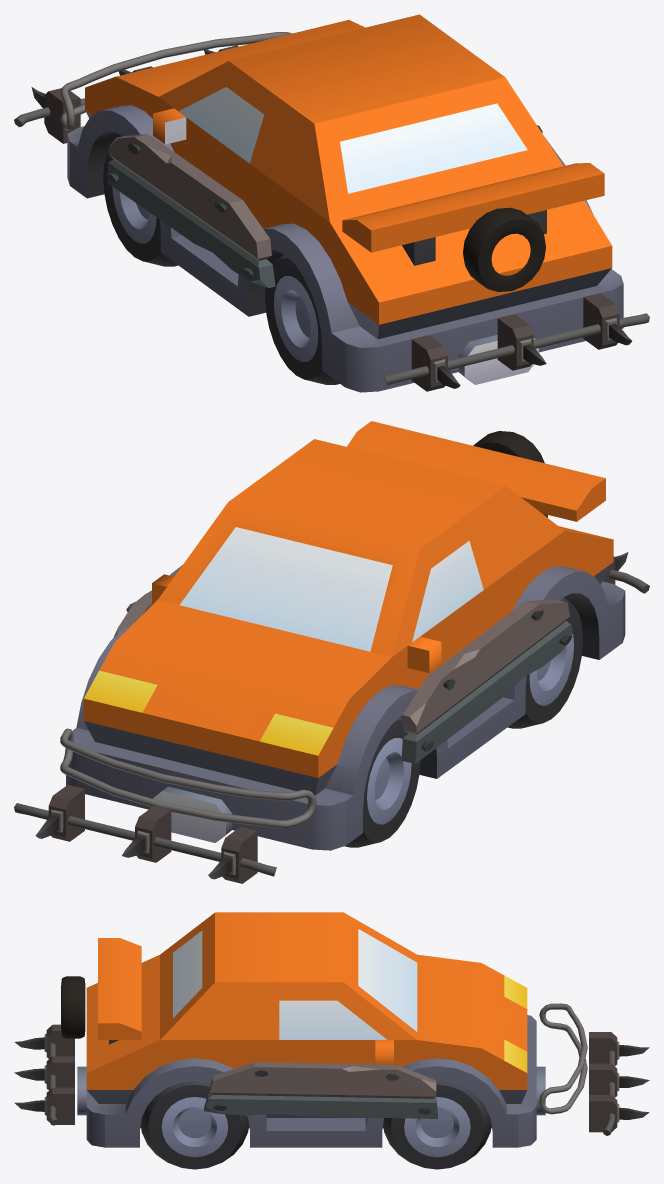
File: car_vela.glb
The picture shows the model from 3 angles, top to bottom: view 1: azimuth 30°, elevation 25°; view 2: azimuth 150°, elevation 25°; view 3: azimuth 270°, elevation 25°; orthographic projection. The views are drawn at different scales.
Visible parts, largest first — view 1: body_mesh, armor_1_mesh, armor_2_mesh, armor_3_mesh, wheel_RL_mesh, wheel_FL_mesh; view 2: body_mesh, armor_1_mesh, armor_3_mesh, armor_2_mesh, wheel_FL_mesh, wheel_RL_mesh; view 3: body_mesh, armor_1_mesh, wheel_RR_mesh, wheel_FR_mesh, armor_2_mesh, armor_3_mesh.
Part boxes in pixels (x1,y1,x2,y2): body_mesh: (67, 14, 623, 392); armor_1_mesh: (107, 125, 565, 287); armor_2_mesh: (60, 32, 649, 391); armor_3_mesh: (14, 45, 545, 291); wheel_RL_mesh: (265, 254, 339, 384); wheel_FL_mesh: (103, 136, 178, 266); body_mesh: (66, 421, 625, 850); armor_1_mesh: (113, 565, 572, 763); armor_3_mesh: (14, 431, 544, 883); armor_2_mesh: (60, 552, 649, 828); wheel_FL_mesh: (345, 716, 420, 847); wheel_RL_mesh: (507, 597, 583, 728); body_mesh: (77, 912, 545, 1147); armor_1_mesh: (204, 1062, 437, 1118); wheel_RR_mesh: (140, 1081, 248, 1169); wheel_FR_mesh: (383, 1081, 491, 1169); armor_2_mesh: (14, 1003, 587, 1125); armor_3_mesh: (61, 976, 649, 1135).
Bounding box in the file's own units: 2.39 × 1.73 × 5.43.
3 materials, 2 textured.
